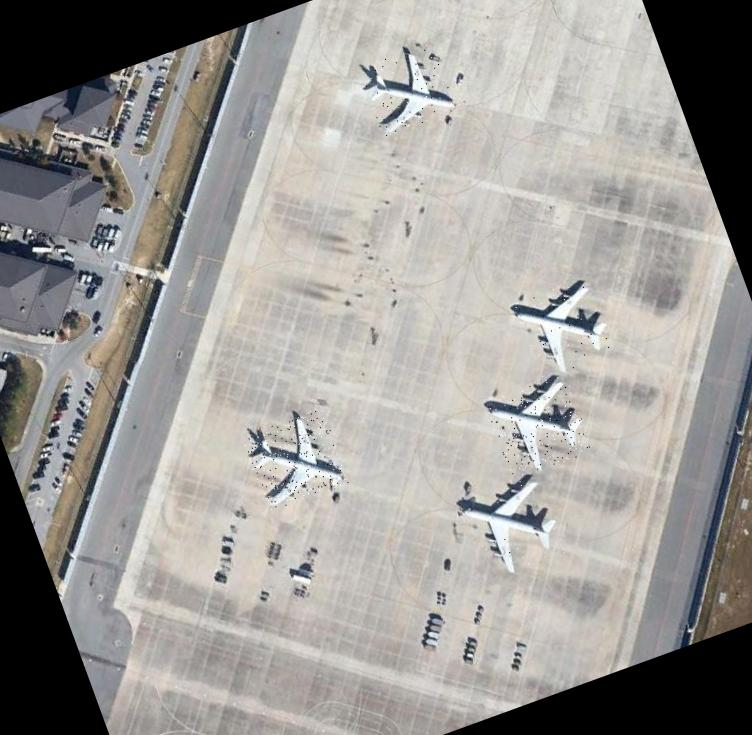A11: (456, 472, 566, 582), (509, 273, 616, 383), (485, 373, 594, 480), (241, 406, 350, 512), (357, 40, 458, 136)
